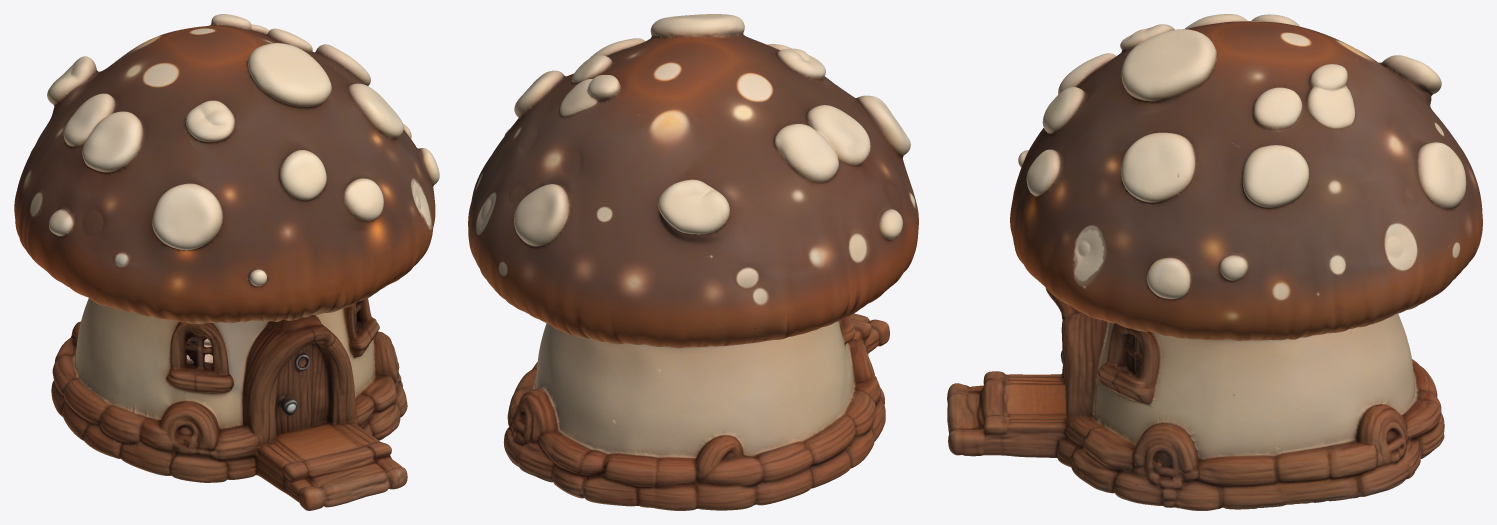
The model's file is wings_of_freedom-house-4442.glb.
3 views of the same model, side by side, from view 1: azimuth 30°, elevation 25°; view 2: azimuth 150°, elevation 25°; view 3: azimuth 270°, elevation 25° (orthographic). The views are drawn at different scales.
Size of the model in its own units: 1.74 by 1.68 by 2.
1 material, 1 textured.
